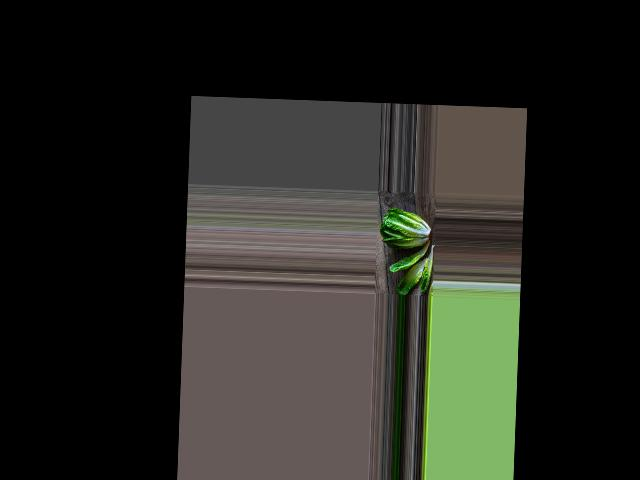lettuce: (379, 206, 430, 252)
